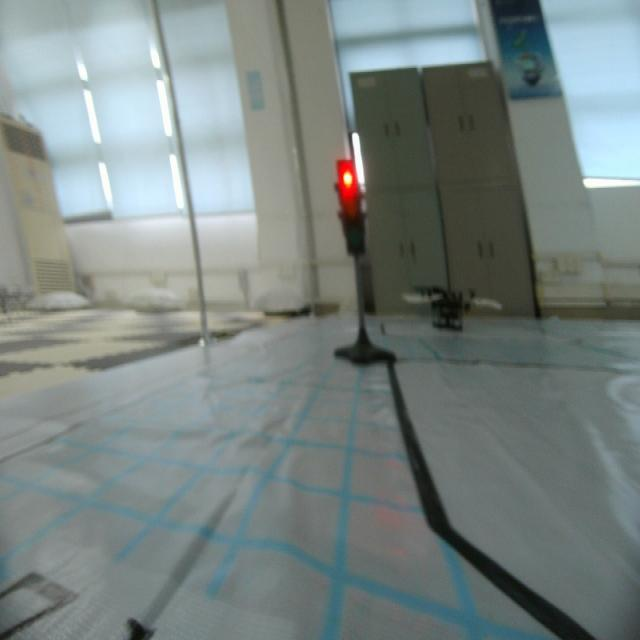red: (329, 152, 370, 262)
